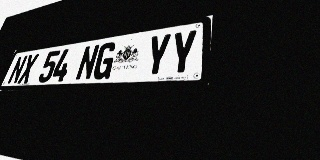4: (50, 48, 75, 82)
5: (37, 50, 61, 83)
G: (91, 41, 118, 80)
N: (74, 44, 100, 81), (7, 55, 28, 84)
X: (17, 53, 39, 84)
Y: (167, 29, 198, 76), (143, 33, 172, 77)
